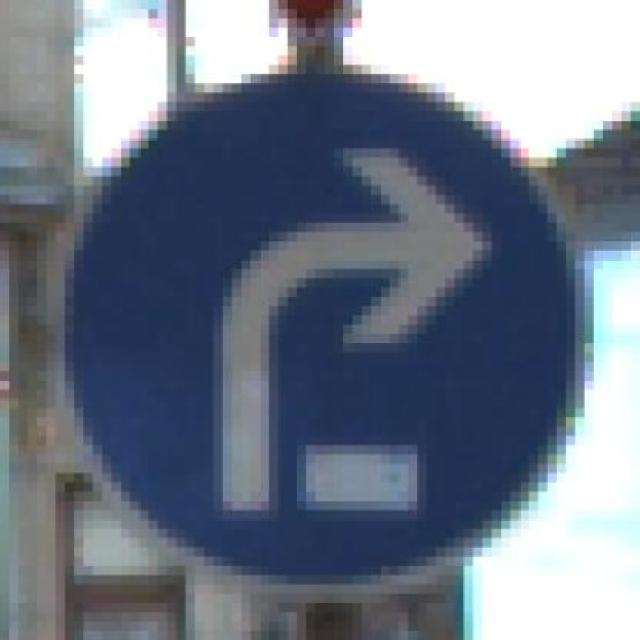Turn right ahead: (51, 54, 608, 592)
